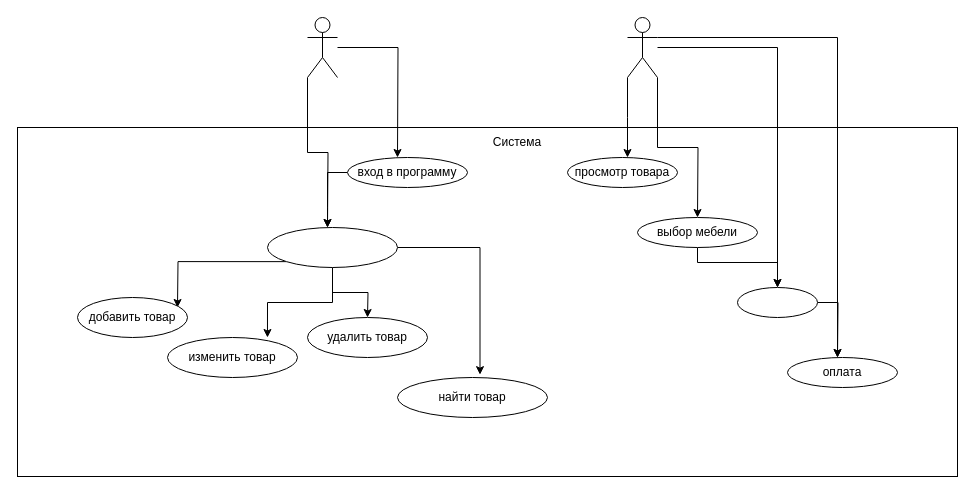
This 975x494 diagram has some shape labels left out. The centre of each missing label's shape, as x and y in pixels:
"админ-панель" belongs at (x=332, y=247).
"клиент" belongs at (x=642, y=47).
"менеджер" belongs at (x=322, y=47).
"оформить заказ" belongs at (x=777, y=302).
